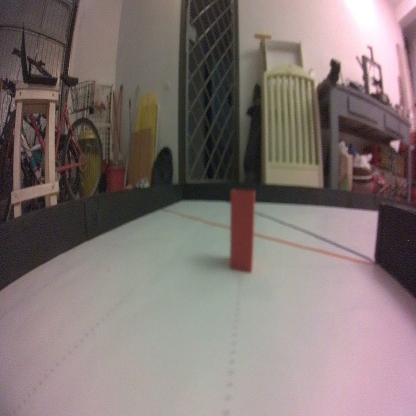red: (228, 187, 256, 275)
